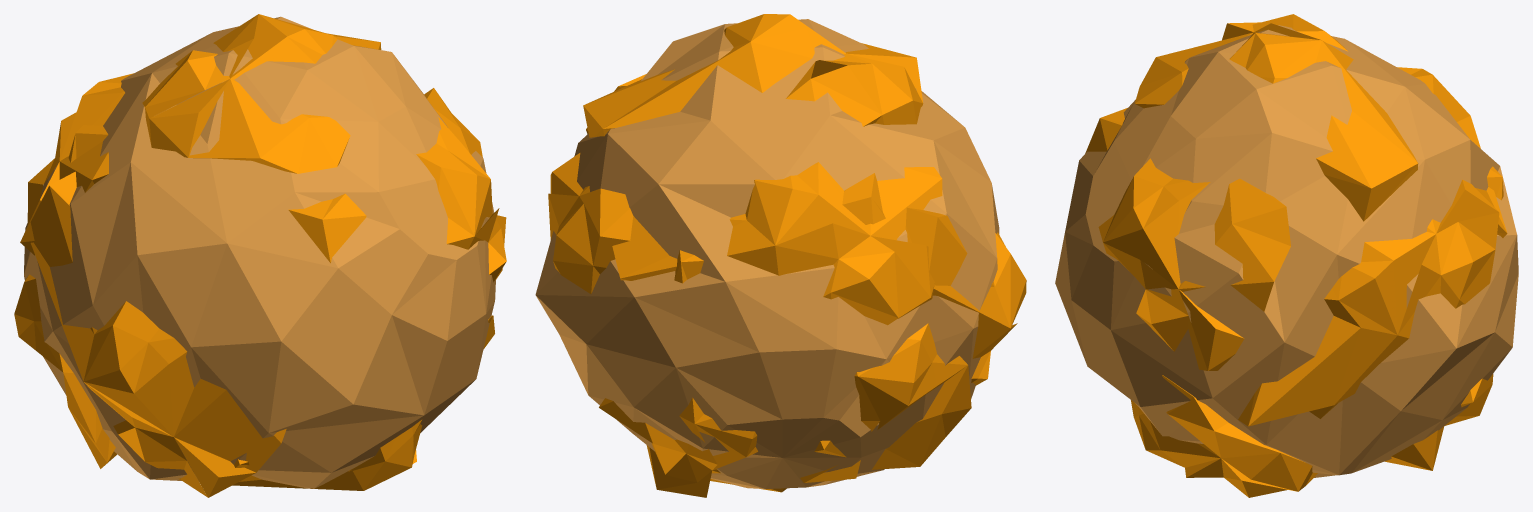
File: venus.glb
3 renders of one model, left to right at view 1: azimuth 30°, elevation 25°; view 2: azimuth 150°, elevation 25°; view 3: azimuth 270°, elevation 25°, orthographic. The views are drawn at different scales.
Visible parts, largest first — view 1: Node; view 2: Node; view 3: Node.
Part boxes in pixels (x1,y1,x2,y2): Node: [14, 14, 506, 497]; Node: [535, 14, 1026, 497]; Node: [1055, 14, 1518, 497].
Size of the model in its own units: 0.2737 by 0.2856 by 0.2748.
